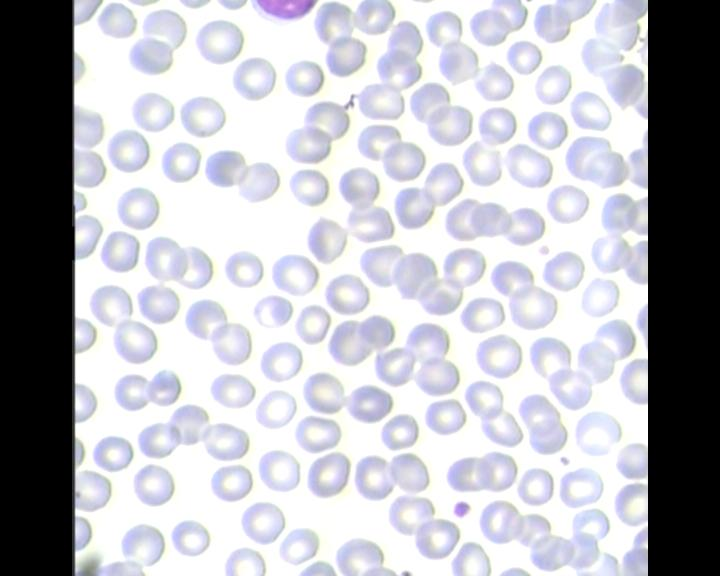lymp: (246, 0, 318, 24)
